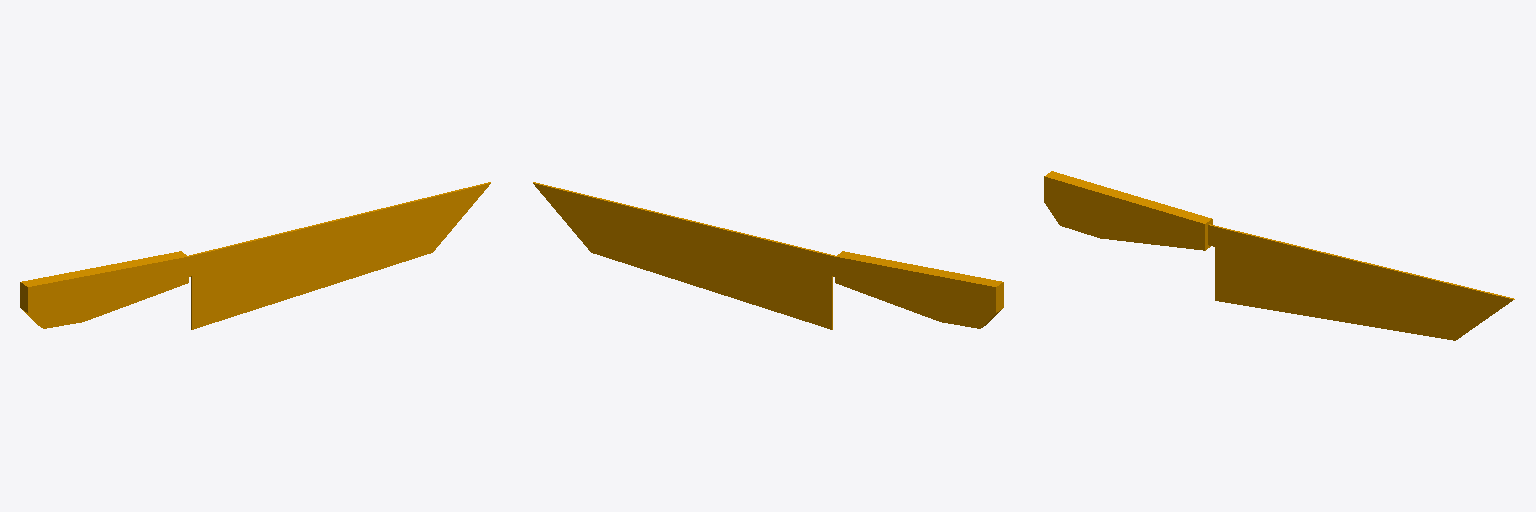
robot.urdf — cookingknife:
<?xml version="1.0"?>
<robot name="cookingknife">
  <link name="knife">
    <inertial>
        <origin rpy="0 0 0" xyz="0 0 0"/>
        <mass value="0.1"/>
        <inertia ixx="1.2e-4" ixy="0" ixz="0" iyy="0.0044" iyz="0" izz="0.0043"/>
    </inertial>
    <visual>
      <geometry>
        <mesh filename="./cookingknife.obj"/>
      </geometry>
    </visual>
    <collision>
      <geometry>
        <mesh filename="./cookingknife.obj"/>
      </geometry>
    </collision>
  </link>
</robot>

--- What the picture shows (computed from the rendered views, not written in the file) ---
The picture shows the robot from 3 angles, left to right: view 1: azimuth 30°, elevation 25°; view 2: azimuth 150°, elevation 25°; view 3: azimuth 330°, elevation 25°; orthographic projection.
Robot: cookingknife — 1 links, 0 joints (none); root link knife; default pose: every joint at zero.
Visible links, largest first — view 1: knife; view 2: knife; view 3: knife.
Boxes of the visible links, left/top/right/bottom form: knife: left=20, top=182, right=490, bottom=329; knife: left=533, top=182, right=1003, bottom=329; knife: left=1044, top=171, right=1514, bottom=340.
Size in the robot's own frame: 0.7262 by 0.02 by 0.1275 metres.
1 mesh visuals loaded from 1 distinct referenced files (1 OBJ).
